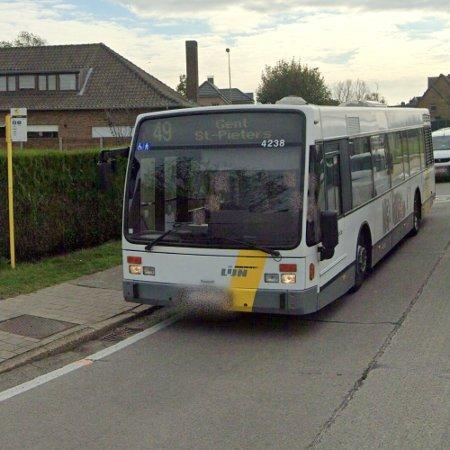buses: (123, 105, 437, 315)
